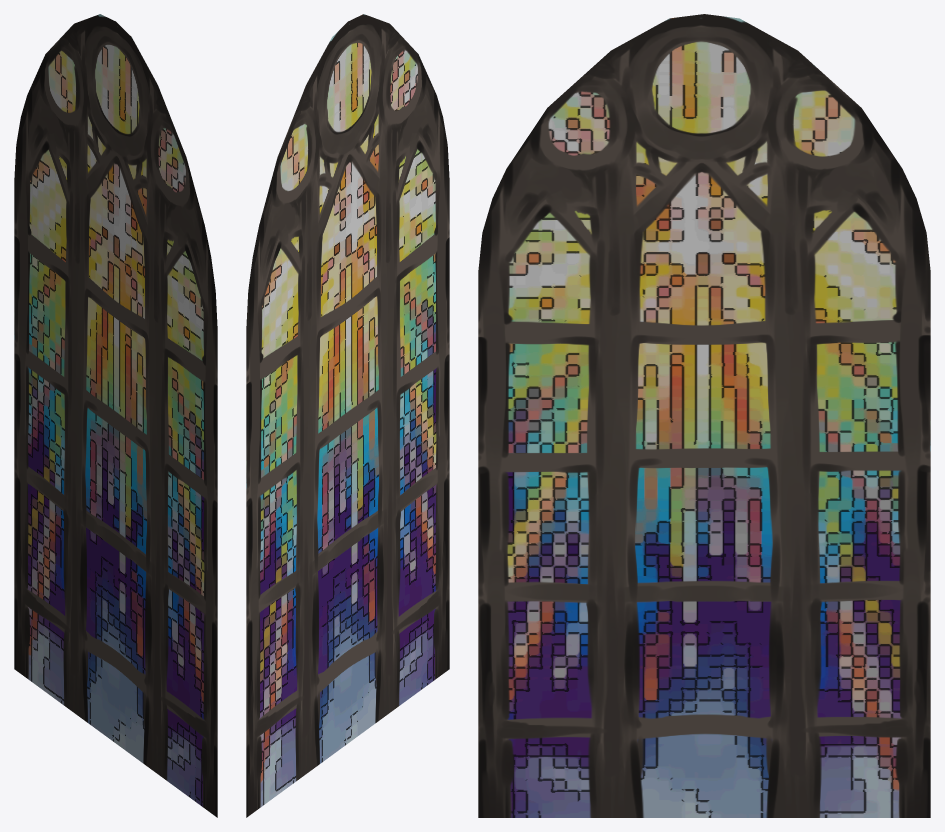
File: stendgrass.fbx
3 views of the same model, side by side, from view 1: azimuth 30°, elevation 25°; view 2: azimuth 150°, elevation 25°; view 3: azimuth 270°, elevation 25° (orthographic). The views are drawn at different scales.
Parts seen in each view (by area): view 1: 平面.005; view 2: 平面.005; view 3: 平面.005.
Part boxes in pixels (box(x1,y1,x2,y2)): 平面.005: box(14, 14, 217, 817); 平面.005: box(246, 14, 449, 817); 平面.005: box(478, 14, 930, 817).
Size of the model in its own units: 0.000347 by 272 by 139.
Materials: 1 (1 with a texture image).
